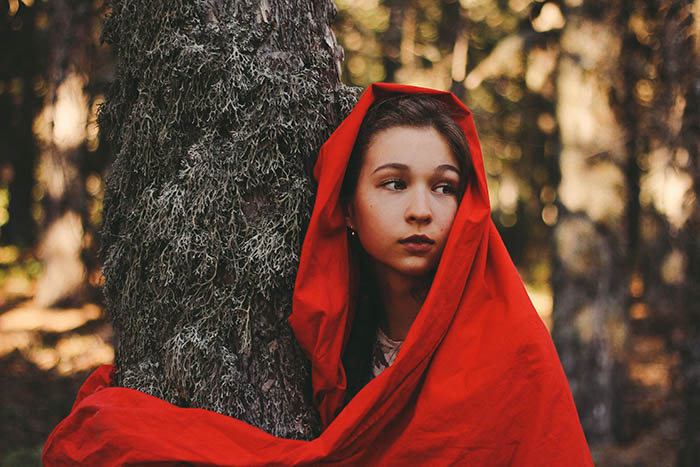bare: (352, 196, 457, 272)
